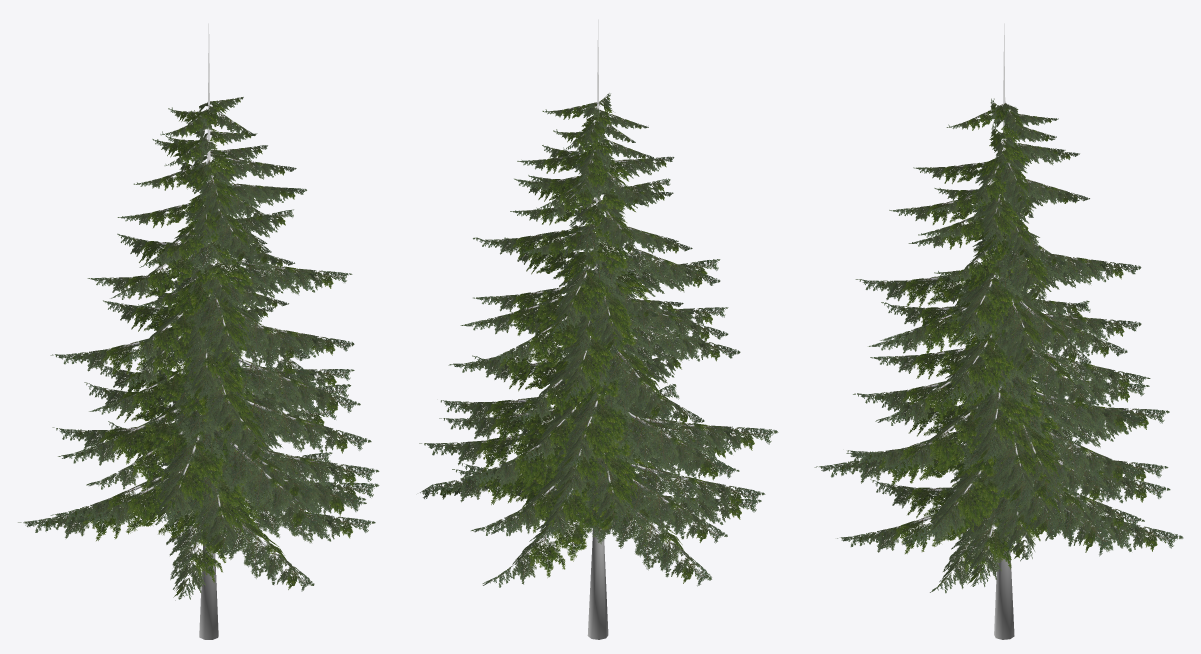
The model's file is Tree2.006.fbx.
The picture shows the model from 3 angles, left to right: view 1: azimuth 30°, elevation 25°; view 2: azimuth 150°, elevation 25°; view 3: azimuth 270°, elevation 25°; orthographic projection.
Visible parts, largest first — view 1: Tree2.006; view 2: Tree2.006; view 3: Tree2.006.
Part boxes in pixels (bbox=[...]): Tree2.006: bbox=[18, 23, 379, 639]; Tree2.006: bbox=[419, 19, 778, 639]; Tree2.006: bbox=[814, 23, 1183, 639].
Size of the model in its own units: 1.66 by 3.14 by 1.72.
